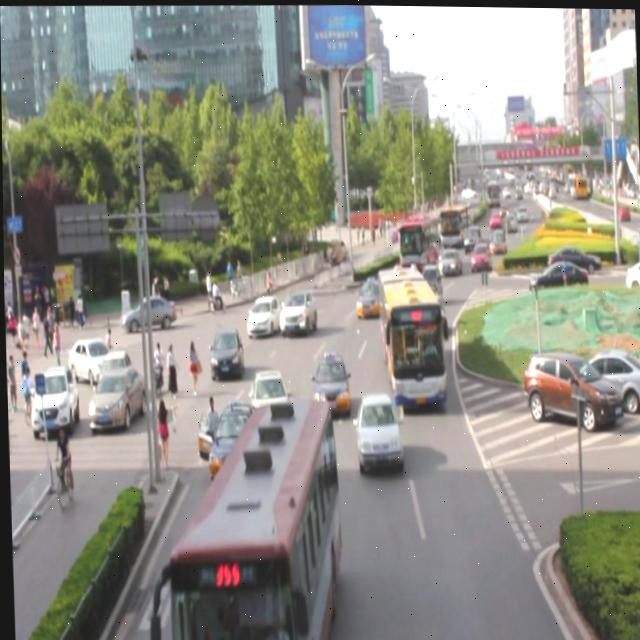car: (206, 397, 260, 482), (353, 388, 400, 467), (247, 364, 289, 423), (310, 351, 347, 411), (207, 323, 242, 375), (275, 285, 313, 332), (243, 290, 279, 335), (352, 271, 380, 314), (415, 282, 443, 324), (413, 259, 440, 294)
van: (165, 392, 334, 640), (373, 258, 443, 405)
